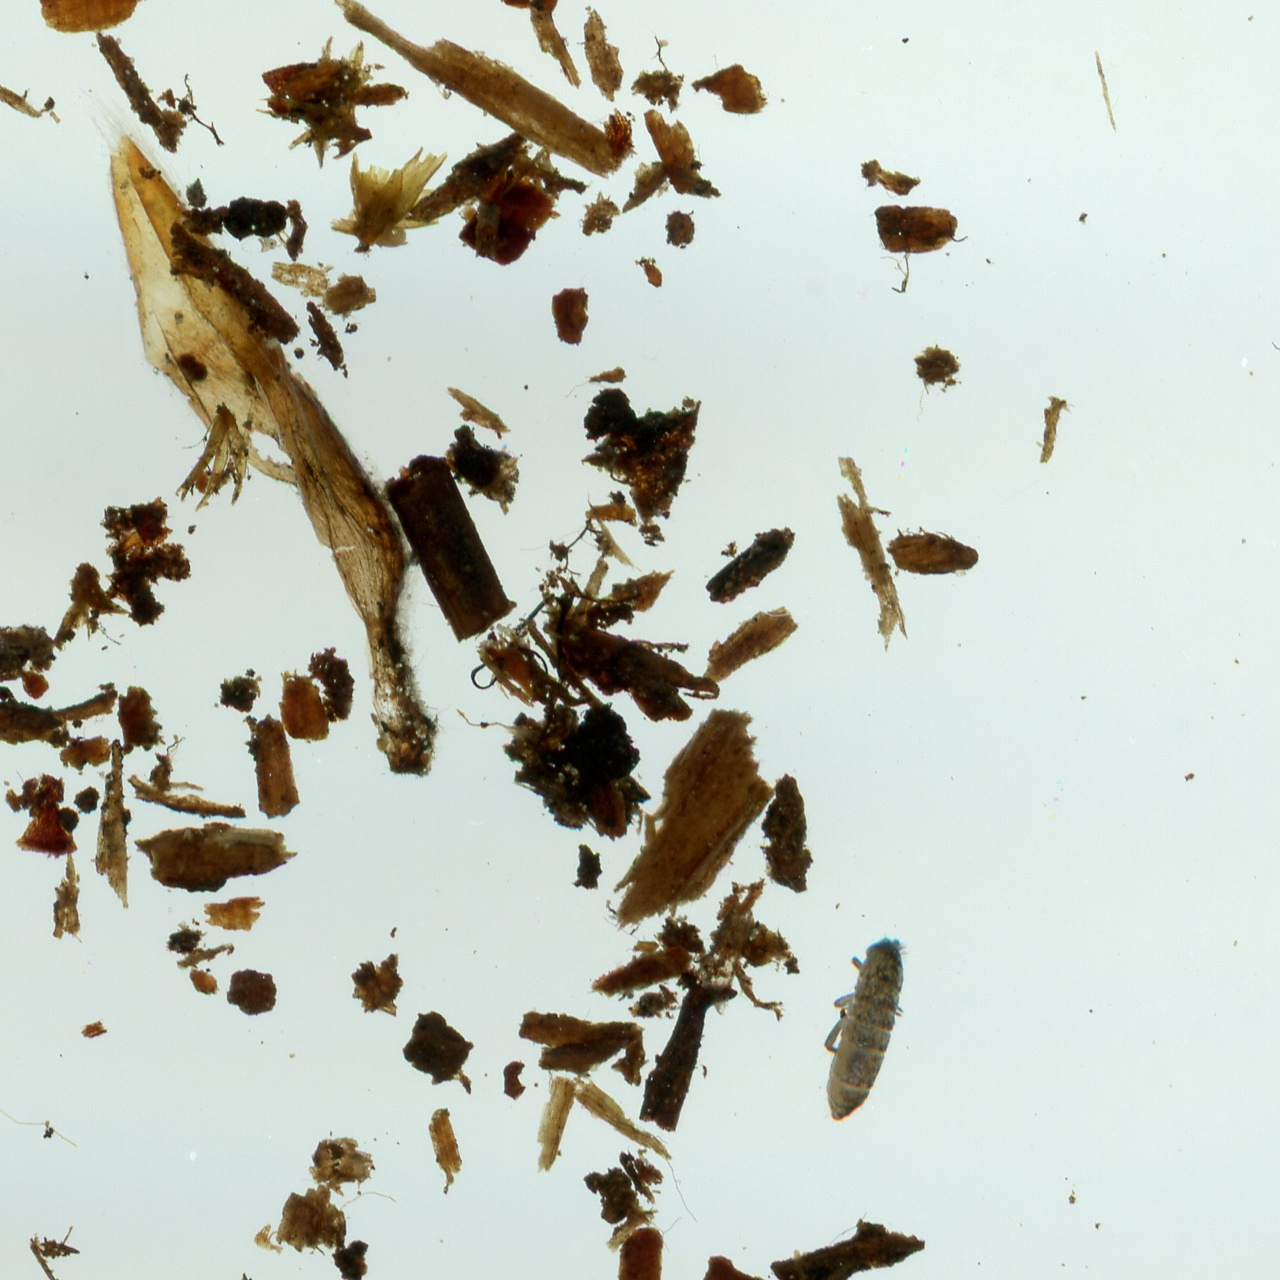arthropod: (802, 918, 923, 1138)
